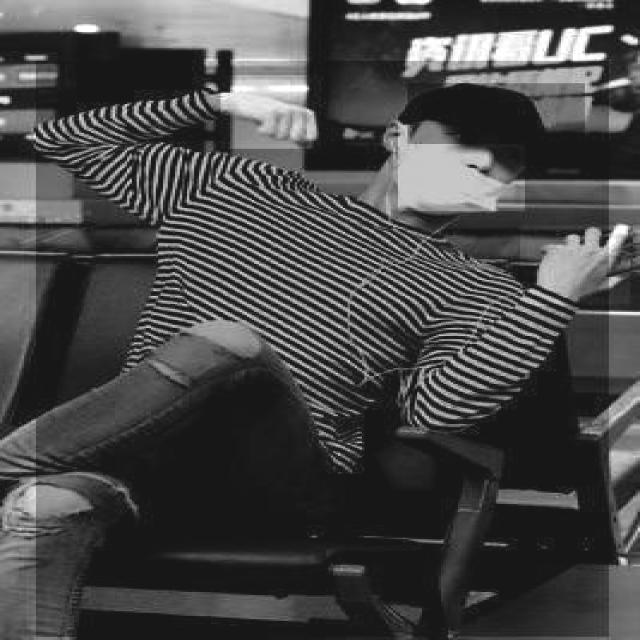face_mask: (398, 122, 525, 211)
hand_noglove: (520, 226, 633, 306), (220, 76, 324, 150)
head_nohelmet: (408, 83, 588, 146)
person: (36, 61, 611, 638)
